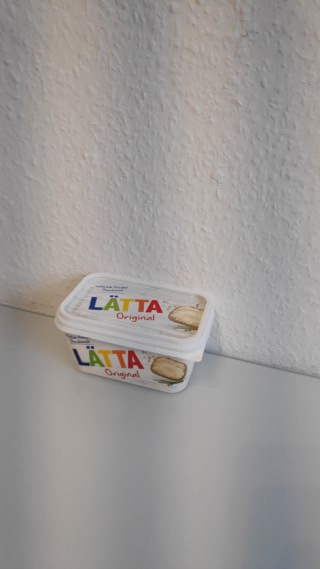laetta: (54, 270, 221, 391)
